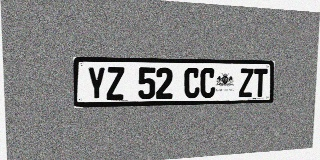2: (156, 67, 173, 99)
5: (138, 67, 156, 99)
C: (184, 68, 200, 98), (200, 68, 216, 98)
T: (253, 68, 268, 97)
Y: (87, 67, 106, 100)
Z: (106, 67, 124, 100), (239, 68, 254, 97)
